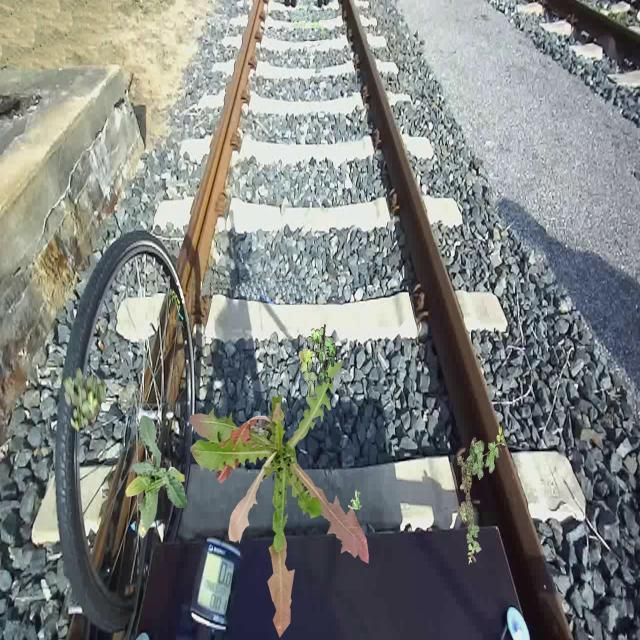Plant: (189, 361, 369, 639), (125, 414, 188, 538), (457, 427, 506, 565), (63, 367, 106, 434), (299, 324, 336, 398), (348, 490, 362, 510)
